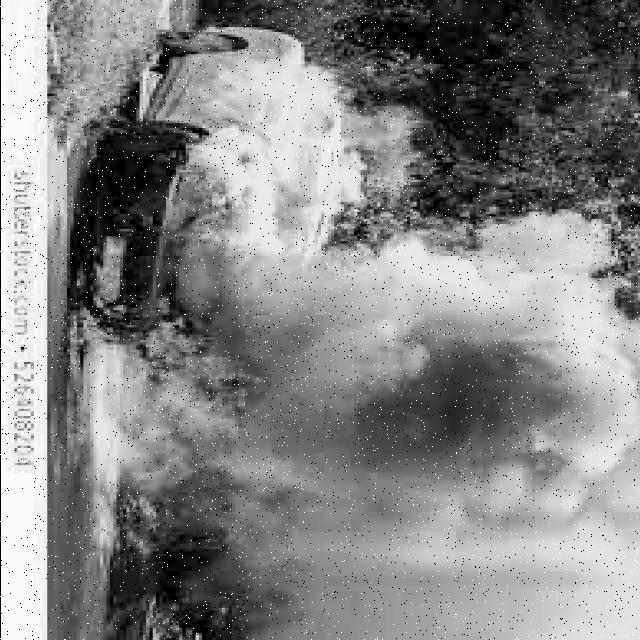api: (67, 282, 285, 457)
